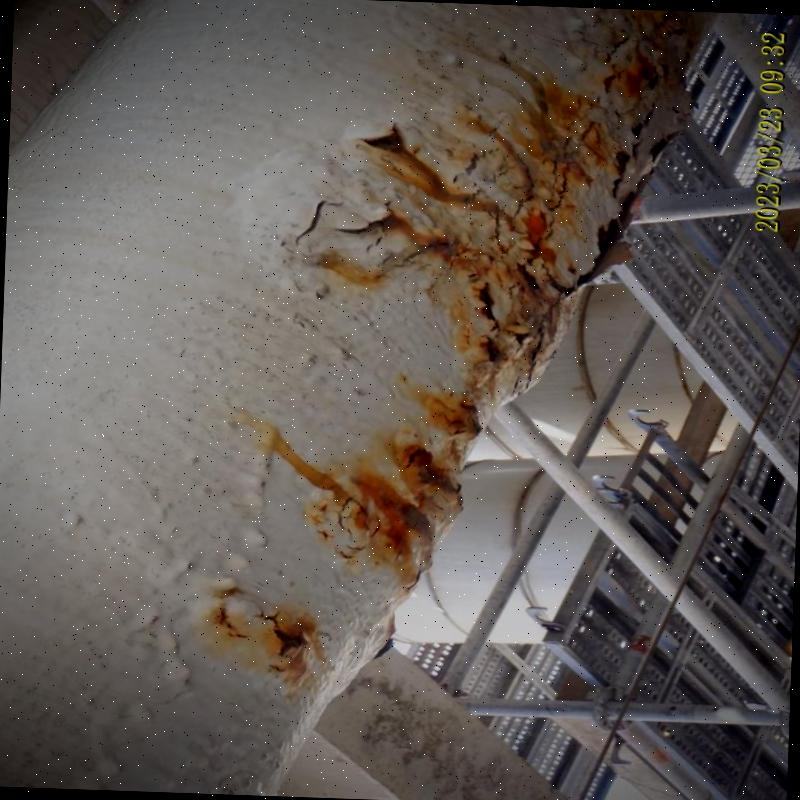corrosion: (151, 93, 576, 706)
